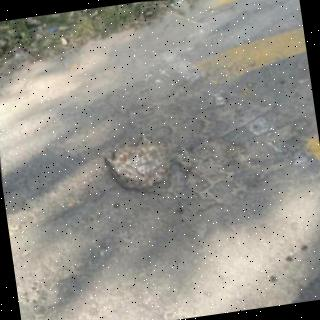pothole: (104, 139, 172, 190)
